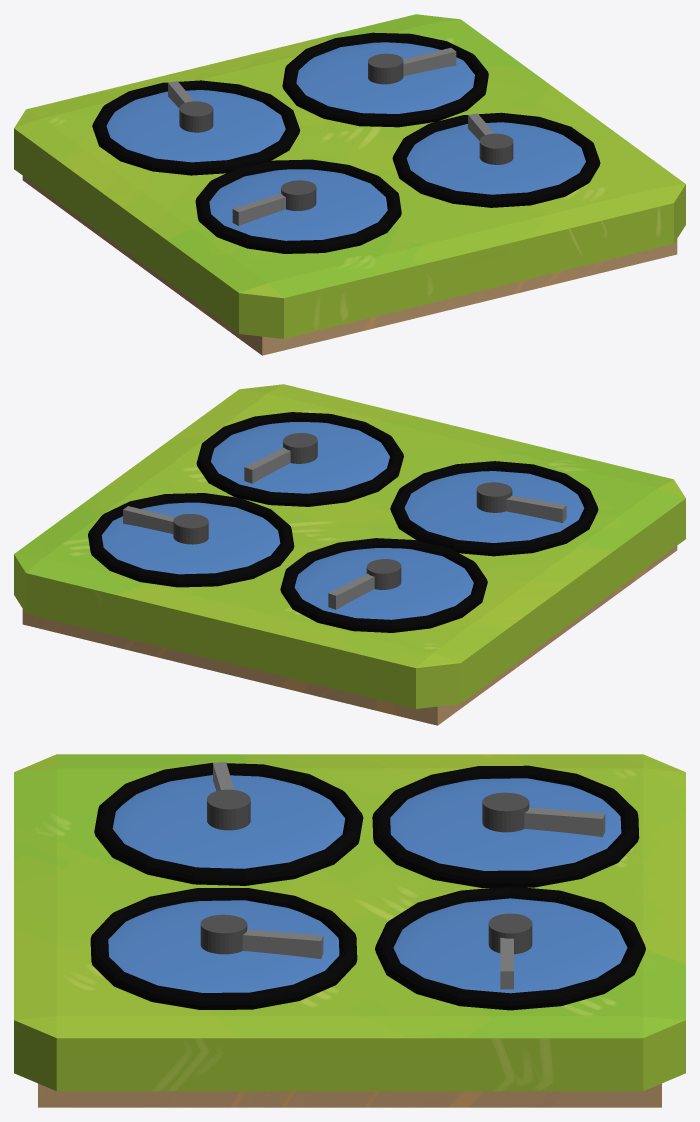
Rendered from klärwerltile.fbx.
The picture shows the model from 3 angles, top to bottom: view 1: azimuth 30°, elevation 25°; view 2: azimuth 150°, elevation 25°; view 3: azimuth 270°, elevation 25°; orthographic projection. The views are drawn at different scales.
Parts seen in each view (by area): view 1: Cube.001, Sphere.001, Sphere.002, Sphere, Sphere.003, Cube, Torus.003, Torus, Torus.002, Torus.001, Cylinder, Cylinder.001 (+4 smaller); view 2: Cube.001, Sphere.002, Sphere.001, Sphere, Sphere.003, Cube, Torus.002, Torus.001, Torus, Torus.003, Cube.004, Cylinder (+6 smaller); view 3: Cube.001, Sphere.003, Sphere, Sphere.001, Sphere.002, Cube, Torus.001, Torus.002, Torus, Torus.003, Cube.003, Cube.005 (+5 smaller).
Part boxes in pixels (x1,y1,x2,y2): Cube.001: [14, 14, 685, 338]; Sphere.001: [106, 90, 285, 162]; Sphere.002: [406, 122, 585, 194]; Sphere: [296, 42, 474, 113]; Sphere.003: [209, 169, 387, 240]; Cube: [22, 176, 677, 355]; Torus.003: [195, 159, 401, 253]; Torus: [282, 32, 488, 127]; Torus.002: [392, 112, 600, 207]; Torus.001: [92, 80, 300, 175]; Cylinder: [368, 53, 403, 84]; Cylinder.001: [179, 101, 213, 132]; Cube.001: [14, 384, 685, 708]; Sphere.002: [211, 422, 389, 493]; Sphere.001: [294, 548, 473, 619]; Sphere: [101, 502, 280, 574]; Sphere.003: [404, 471, 584, 542]; Cube: [22, 546, 677, 725]; Torus.002: [196, 412, 403, 506]; Torus.001: [280, 538, 487, 632]; Torus: [88, 493, 294, 587]; Torus.003: [390, 461, 598, 556]; Cube.004: [506, 495, 566, 522]; Cylinder: [173, 514, 208, 544]; Cube.001: [14, 754, 685, 1091]; Sphere.003: [112, 775, 345, 868]; Sphere: [393, 898, 627, 993]; Sphere.001: [390, 778, 621, 870]; Sphere.002: [108, 900, 339, 992]; Cube: [38, 1083, 661, 1107]; Torus.001: [372, 765, 639, 887]; Torus.002: [90, 888, 357, 1009]; Torus: [375, 886, 645, 1010]; Torus.003: [94, 762, 363, 885]; Cube.003: [524, 807, 605, 837]; Cube.005: [242, 929, 323, 959].
Size of the model in its own units: 108 by 20.21 by 108.
